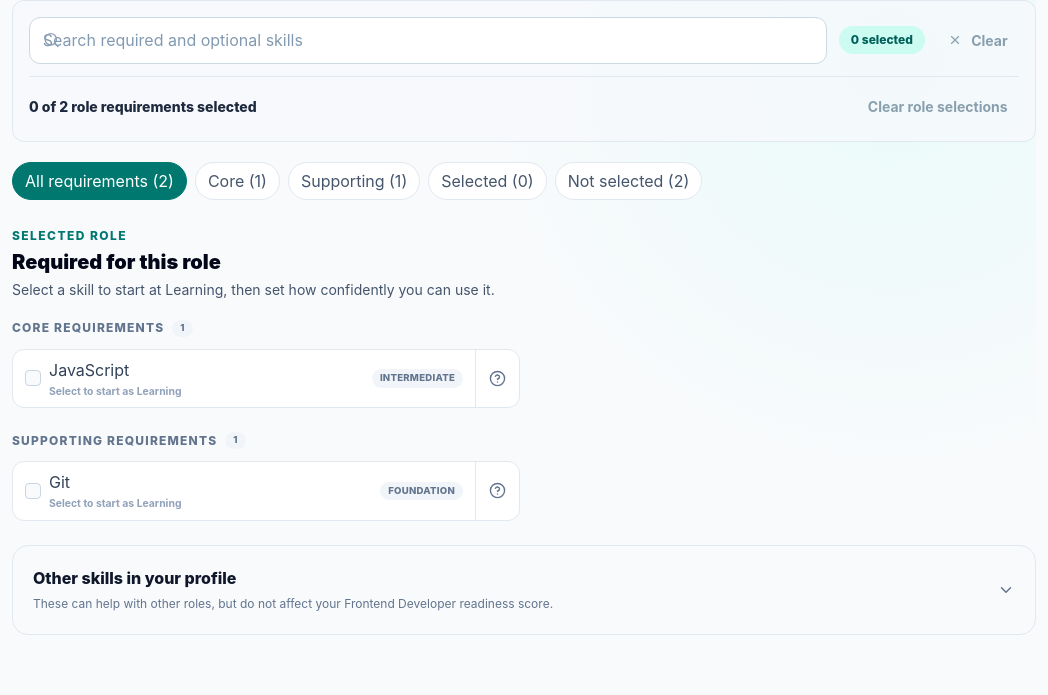
Test: SkillSelector › selects, announces and clears all current skills
The width and height of the screenshot is (1048, 695).
Click the checkbox labelled "JavaScript" at (89, 370), box [13,350,475,407]
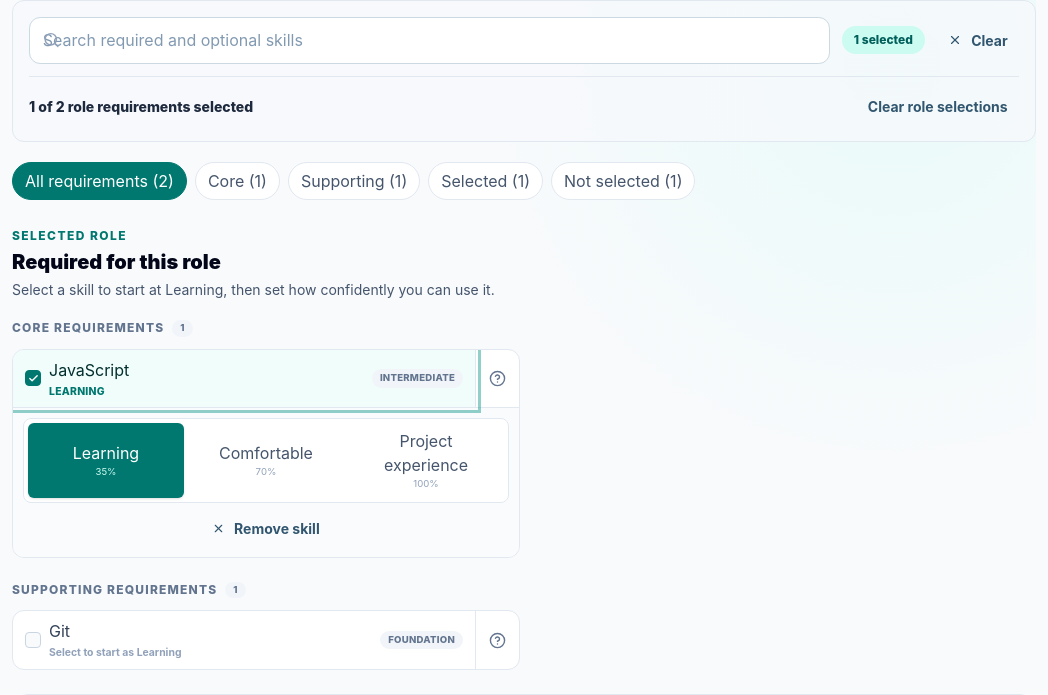
Now the text "1 selected" is shown, box [842,26,925,54]
Now the text "1 of 2 role requirements selected" is shown, box [29,97,253,117]
Click the button "Clear" at (978, 40), box [937,22,1019,58]
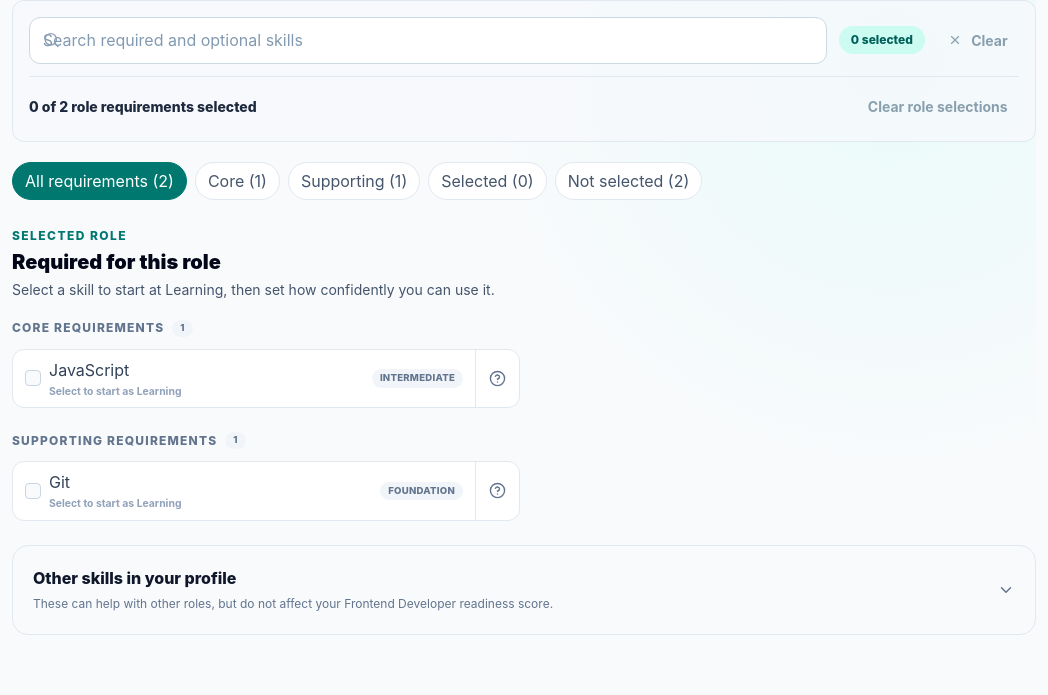
Now the text "0 selected" is shown, box [839,26,925,54]
